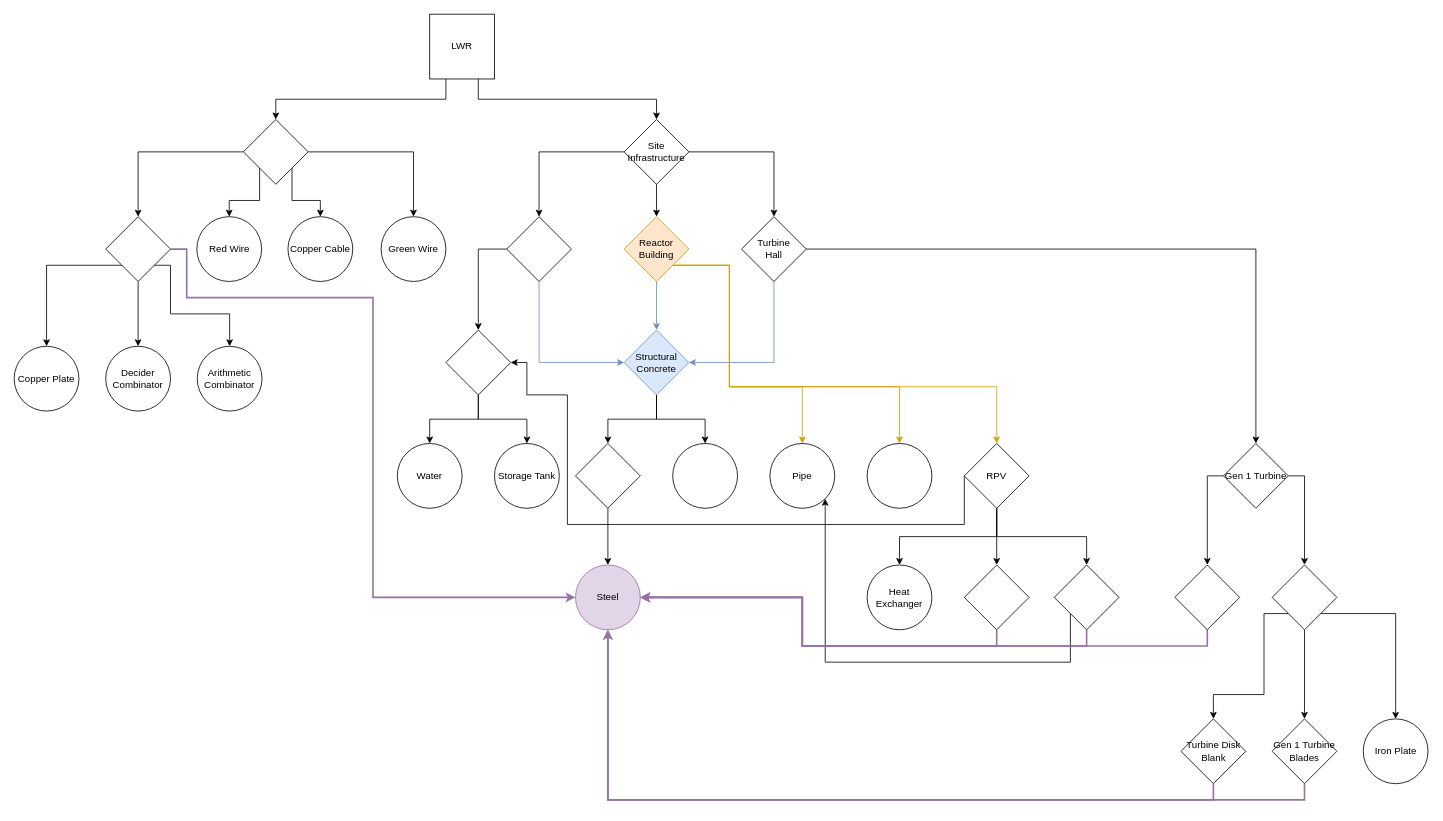
Image size: 1443x821. Some labels were removed from this diagram. The box of each missing label's shape, as (x1, y1, x2, y2) in pixels:
Concrete: (672, 443, 738, 508)
Electric Grid Interface: (243, 119, 308, 184)
Fuel Storage: (506, 216, 571, 281)
Pump: (866, 443, 932, 508)
Purified Water Tank: (445, 329, 511, 395)
Rebar: (575, 443, 640, 508)
RPV segment: (963, 564, 1029, 630)
Steam Generator: (1053, 564, 1119, 630)
Switchgear: (105, 216, 171, 281)
Turbine Disk: (1271, 564, 1337, 630)
Turbine Shaft: (1174, 564, 1240, 630)
